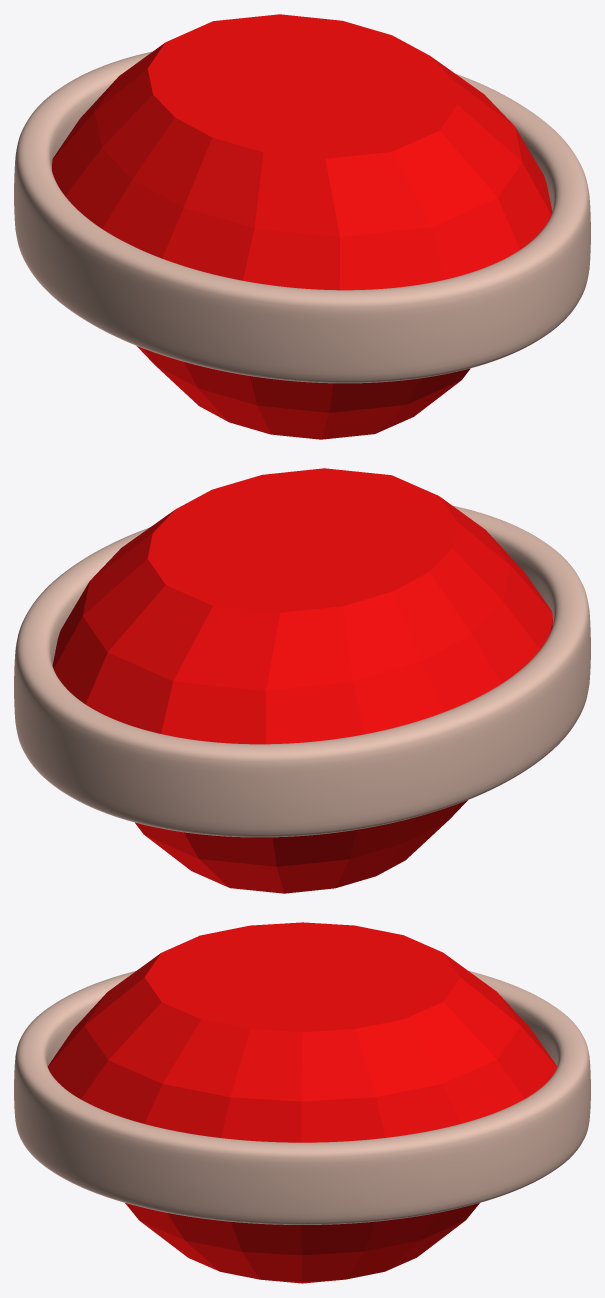
Rendered from ChungRGnew.glb.
3 views of the same model, one above another, from view 1: azimuth 30°, elevation 25°; view 2: azimuth 150°, elevation 25°; view 3: azimuth 270°, elevation 25° (orthographic). The views are drawn at different scales.
Parts seen in each view (by area): view 1: Chung garnet for 3d model, Chung RG for 3d model; view 2: Chung garnet for 3d model, Chung RG for 3d model; view 3: Chung garnet for 3d model, Chung RG for 3d model.
Boxes of the visible parts, x1=… form: Chung garnet for 3d model: x1=52, y1=14, x2=552, y2=439; Chung RG for 3d model: x1=14, y1=51, x2=590, y2=383; Chung garnet for 3d model: x1=52, y1=468, x2=552, y2=893; Chung RG for 3d model: x1=14, y1=506, x2=590, y2=837; Chung garnet for 3d model: x1=47, y1=922, x2=557, y2=1283; Chung RG for 3d model: x1=14, y1=971, x2=590, y2=1224.
Bounding box in the file's own units: 22.86 × 15.9 × 27.15.
